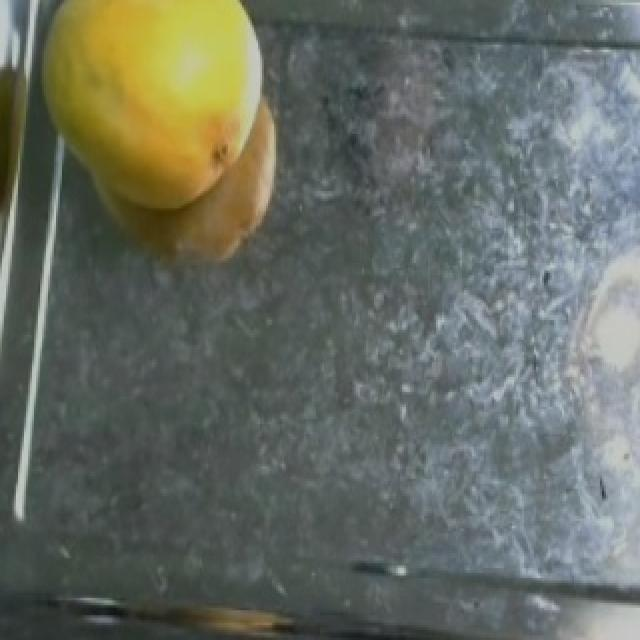fruit: (18, 0, 298, 233)
